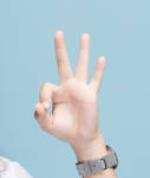left: (31, 29, 110, 142)
